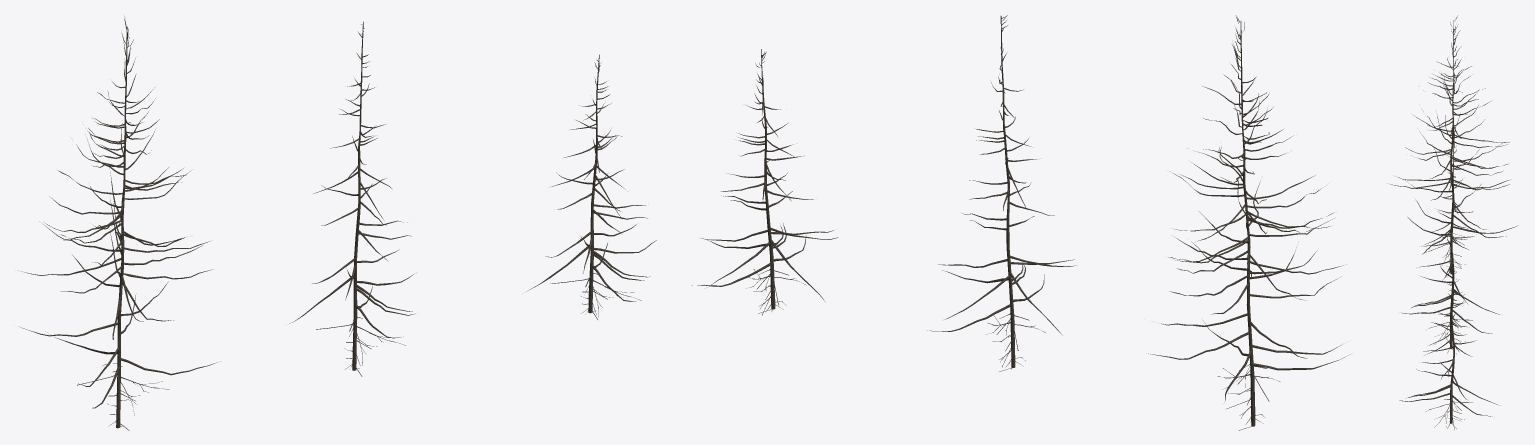
File: fir_sapling_medium_wood.glb
3 renders of one model, left to right at view 1: azimuth 30°, elevation 25°; view 2: azimuth 150°, elevation 25°; view 3: azimuth 270°, elevation 25°, orthographic. The views are drawn at different scales.
Parts seen in each view (by area): view 1: fir_sapling_medium_a_LOD0, fir_sapling_medium_b_LOD0, fir_sapling_medium_c_LOD0; view 2: fir_sapling_medium_a_LOD0, fir_sapling_medium_b_LOD0, fir_sapling_medium_c_LOD0; view 3: fir_sapling_medium_a_LOD0, fir_sapling_medium_b_LOD0, fir_sapling_medium_c_LOD0.
Boxes of the visible parts, box(x1,y1,x2,y2) form: fir_sapling_medium_a_LOD0: box(18, 16, 217, 430); fir_sapling_medium_b_LOD0: box(289, 21, 415, 376); fir_sapling_medium_c_LOD0: box(526, 54, 656, 319); fir_sapling_medium_a_LOD0: box(1148, 15, 1350, 430); fir_sapling_medium_b_LOD0: box(927, 15, 1076, 371); fir_sapling_medium_c_LOD0: box(692, 49, 838, 315); fir_sapling_medium_a_LOD0: box(1390, 16, 1518, 279); fir_sapling_medium_b_LOD0: box(1401, 128, 1499, 354); fir_sapling_medium_c_LOD0: box(1399, 262, 1498, 429).
Size of the model in its own units: 13.17 by 8.38 by 3.85.
2 materials, 2 textured.
